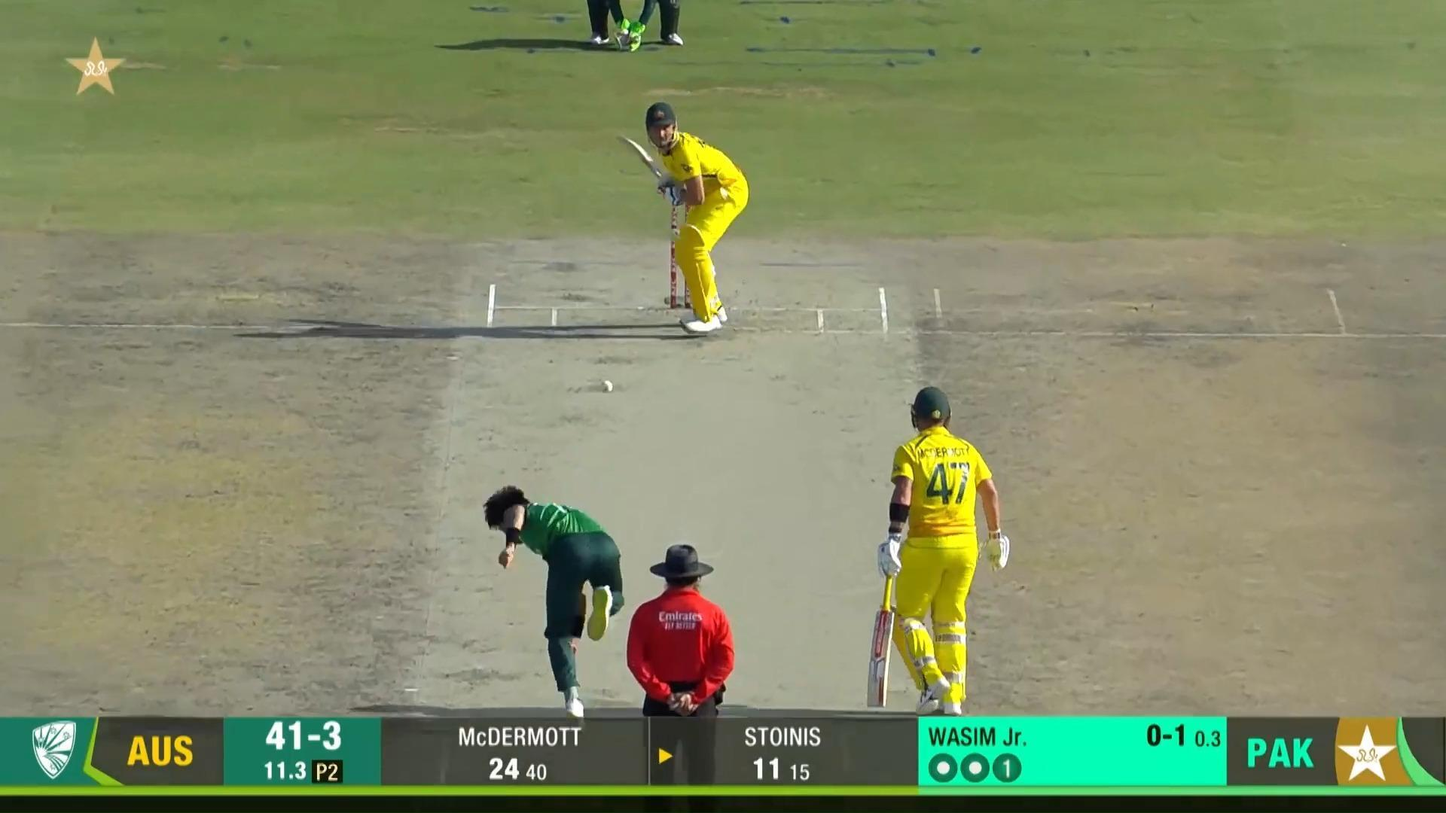BM 1: (618, 101, 751, 335)
BO: (482, 484, 627, 723)
